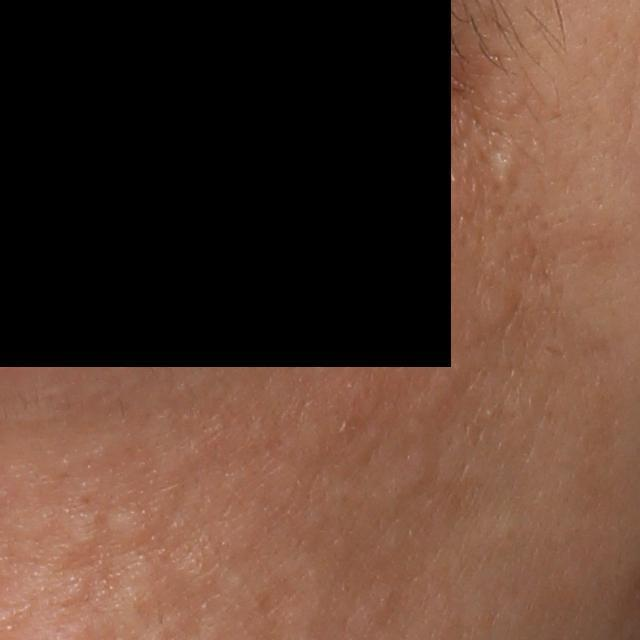hypertrophic_scar: (476, 284, 519, 340), (57, 506, 96, 549), (491, 150, 522, 199), (104, 509, 143, 547)
